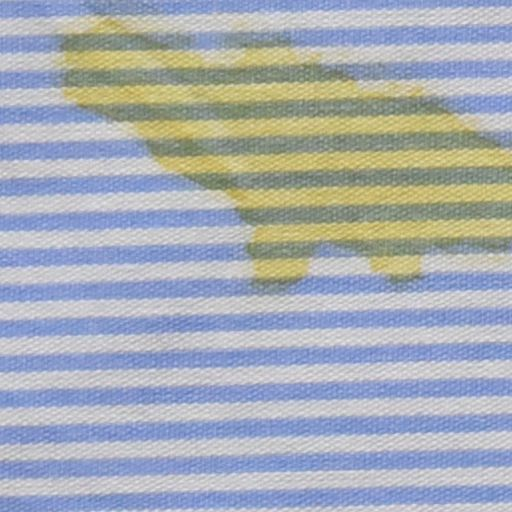defect: (55, 28, 512, 283)
